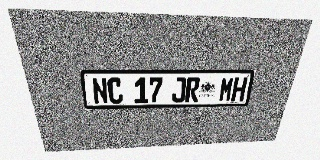1: (134, 77, 148, 103)
7: (149, 77, 163, 103)
C: (107, 78, 123, 104)
H: (231, 77, 248, 101)
J: (171, 77, 186, 103)
M: (218, 77, 235, 102)
N: (91, 78, 109, 104)
R: (185, 77, 200, 102)
